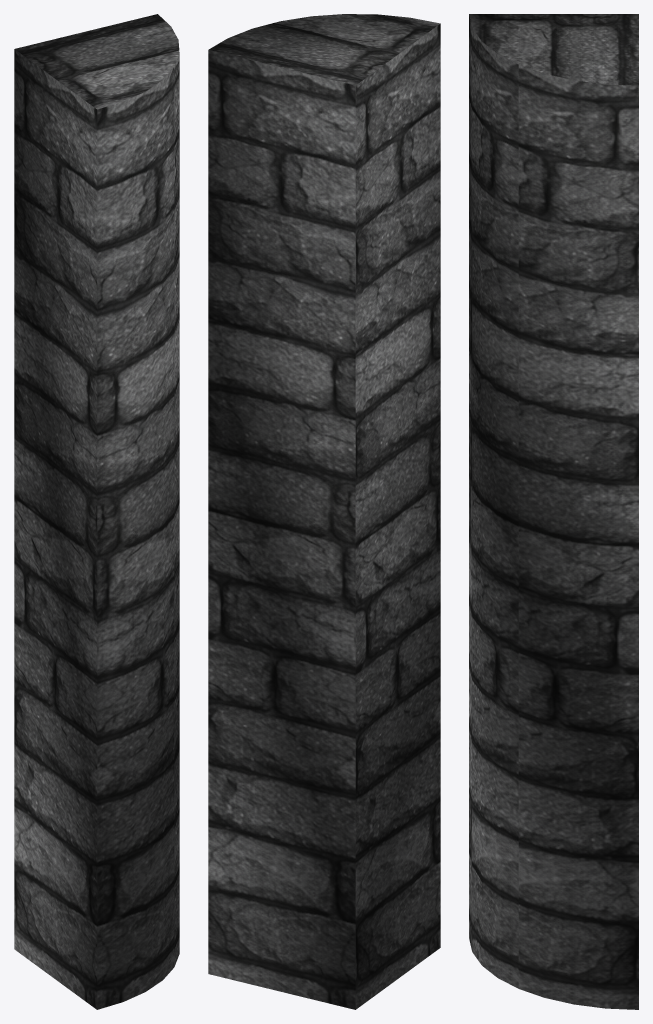
Rendered from stone pillar bent half.glb.
3 views of the same model, side by side, from view 1: azimuth 30°, elevation 25°; view 2: azimuth 150°, elevation 25°; view 3: azimuth 270°, elevation 25° (orthographic). The views are drawn at different scales.
Visible parts, largest first — view 1: Quarter Cylinder; view 2: Quarter Cylinder; view 3: Quarter Cylinder.
Part boxes in pixels (bbox=[...]): Quarter Cylinder: bbox=[14, 14, 179, 1009]; Quarter Cylinder: bbox=[208, 14, 440, 1009]; Quarter Cylinder: bbox=[469, 14, 638, 1009].
Bounding box in the file's own units: 0.4572 × 2.74 × 0.4572.
1 material, 1 textured.
